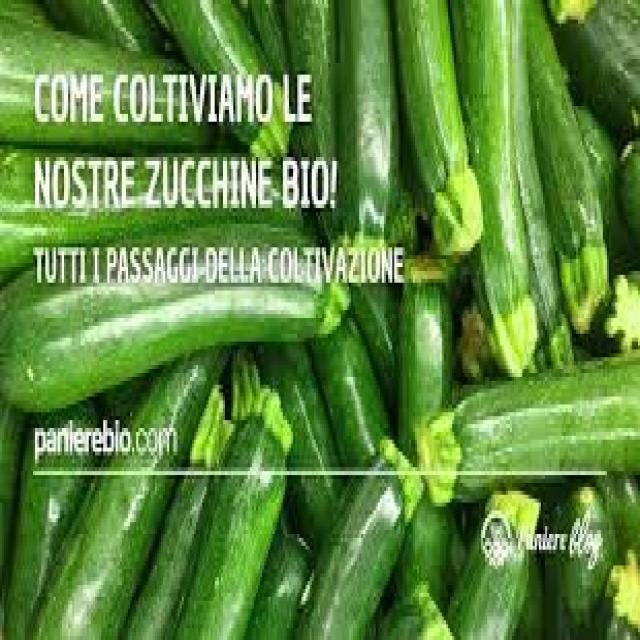Zucchini: (424, 367, 640, 480)
